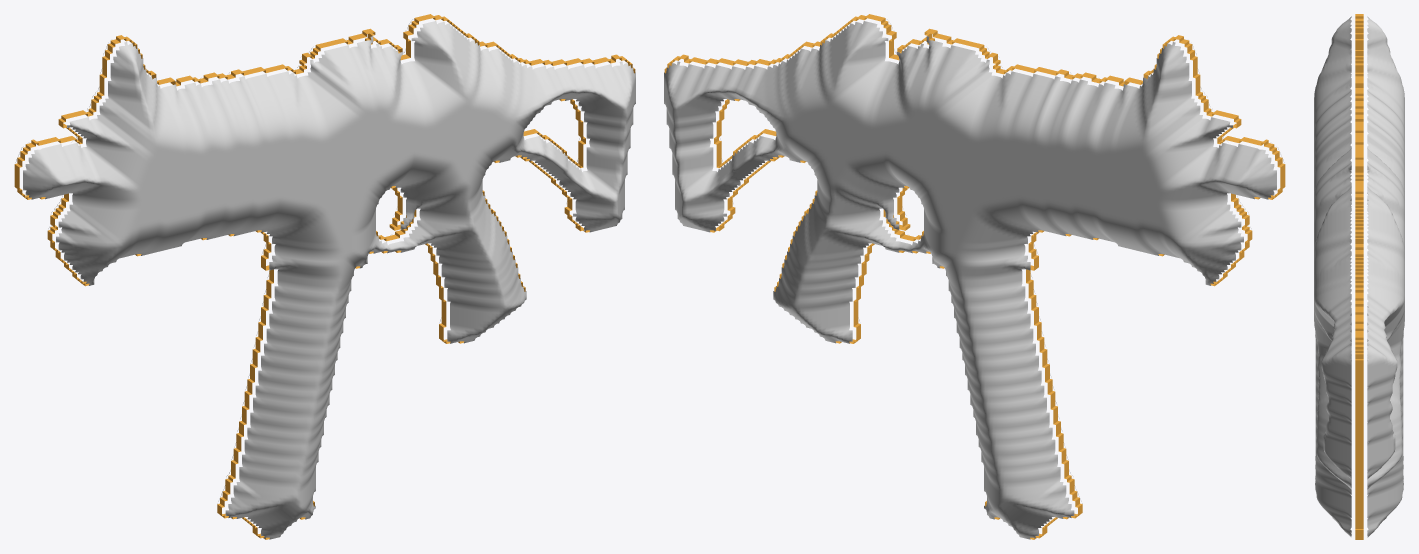
Rendered from codm-fennec-ascended.glb.
3 renders of one model, left to right at view 1: azimuth 30°, elevation 25°; view 2: azimuth 150°, elevation 25°; view 3: azimuth 270°, elevation 25°, orthographic. The views are drawn at different scales.
Visible parts, largest first — view 1: projected-skin, silhouette-edge; view 2: projected-skin, silhouette-edge; view 3: projected-skin, silhouette-edge.
Boxes of the visible parts, bbox=[...] form: projected-skin: bbox=[15, 19, 635, 539]; silhouette-edge: bbox=[14, 14, 635, 539]; projected-skin: bbox=[664, 19, 1284, 539]; silhouette-edge: bbox=[664, 14, 1285, 539]; projected-skin: bbox=[1314, 16, 1404, 537]; silhouette-edge: bbox=[1355, 14, 1363, 539].
Bounding box in the file's own units: 0.8824 × 0.7333 × 0.132.
